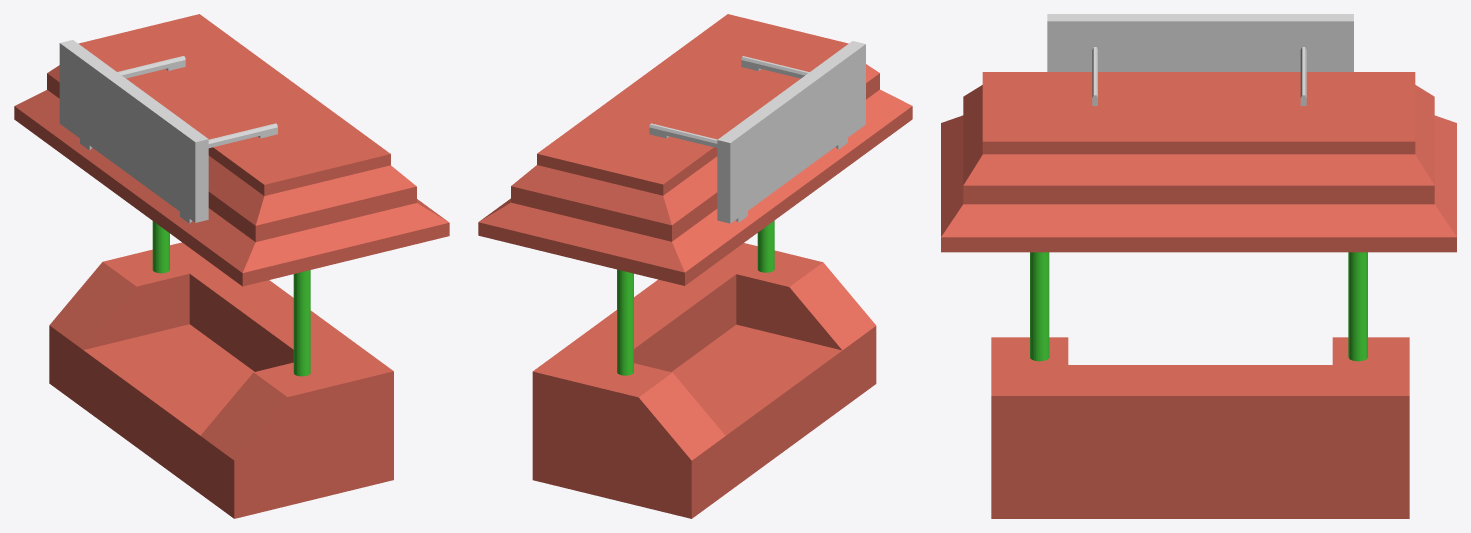
Rendered from StandBiblioteca.fbx.
3 renders of one model, left to right at view 1: azimuth 30°, elevation 25°; view 2: azimuth 150°, elevation 25°; view 3: azimuth 270°, elevation 25°, orthographic. The views are drawn at different scales.
Visible parts, largest first — view 1: Cube.028; view 2: Cube.028; view 3: Cube.028.
Part boxes in pixels (x1,y1,x2,y2): Cube.028: [14, 14, 449, 518]; Cube.028: [478, 14, 912, 518]; Cube.028: [941, 14, 1456, 518].
Size of the model in its own units: 470 by 785 by 897.
